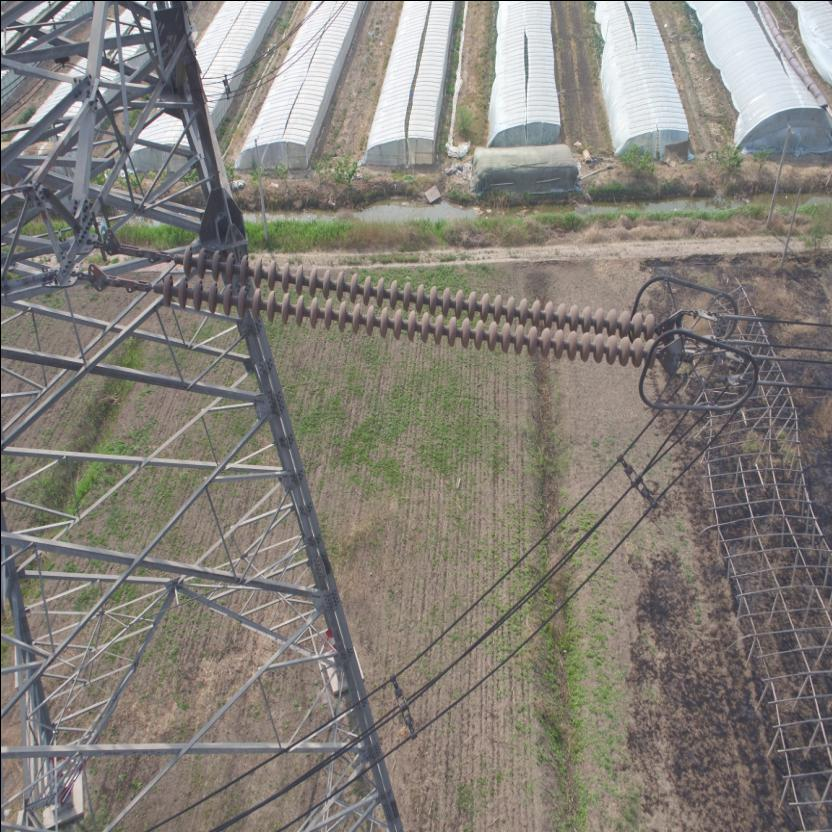insulator: (120, 242, 666, 370)
